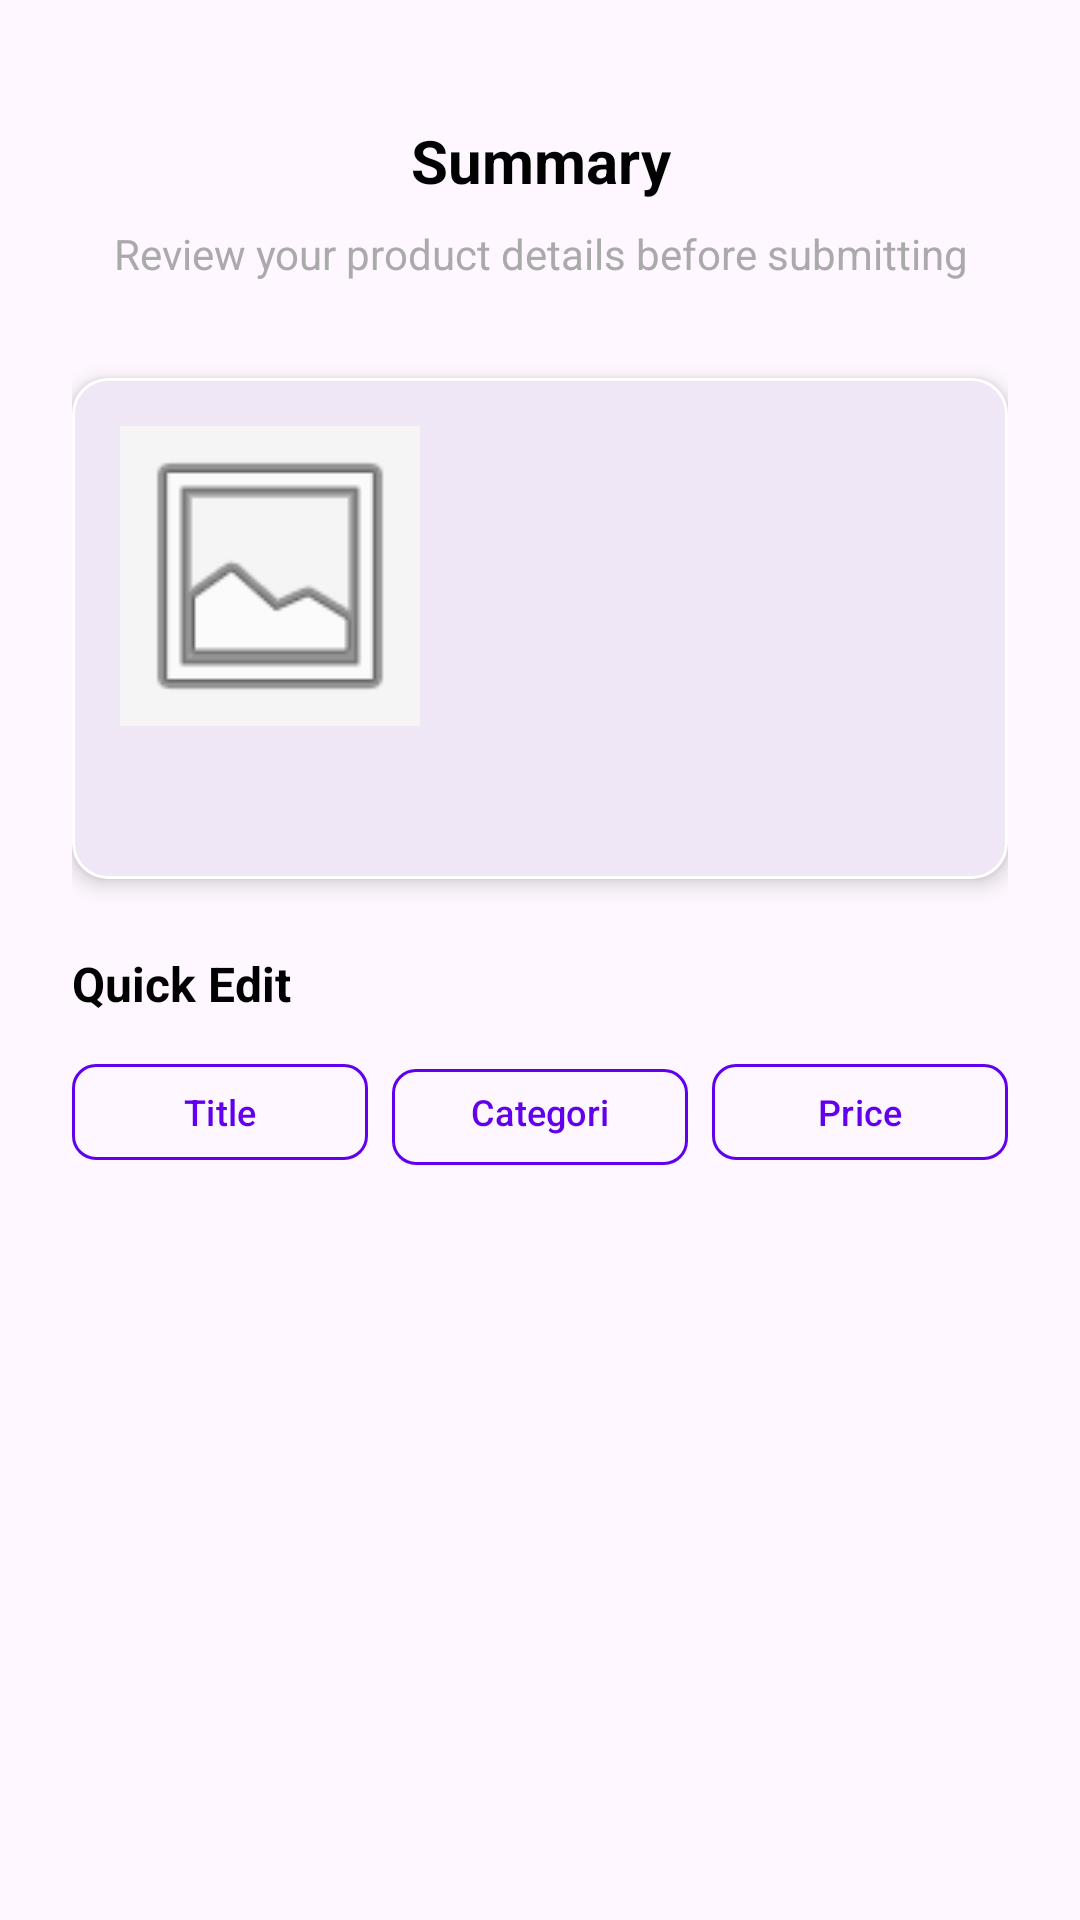

Screen size 1080×1920. Icon name, then its center in pixels as (x=x, y=y):
gallery: (x=270, y=576)
